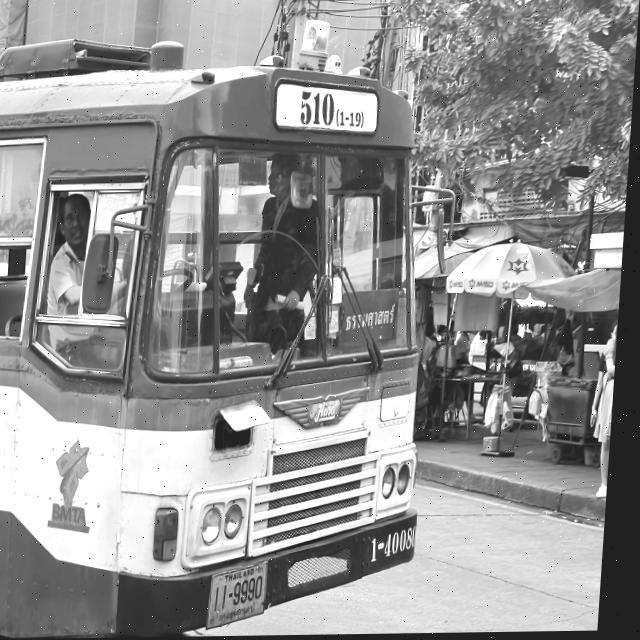BMTA-bus: (0, 21, 459, 639)
Bus-Line-Number: (292, 84, 370, 137)
Destination-Sign-Normal: (343, 293, 405, 342)
